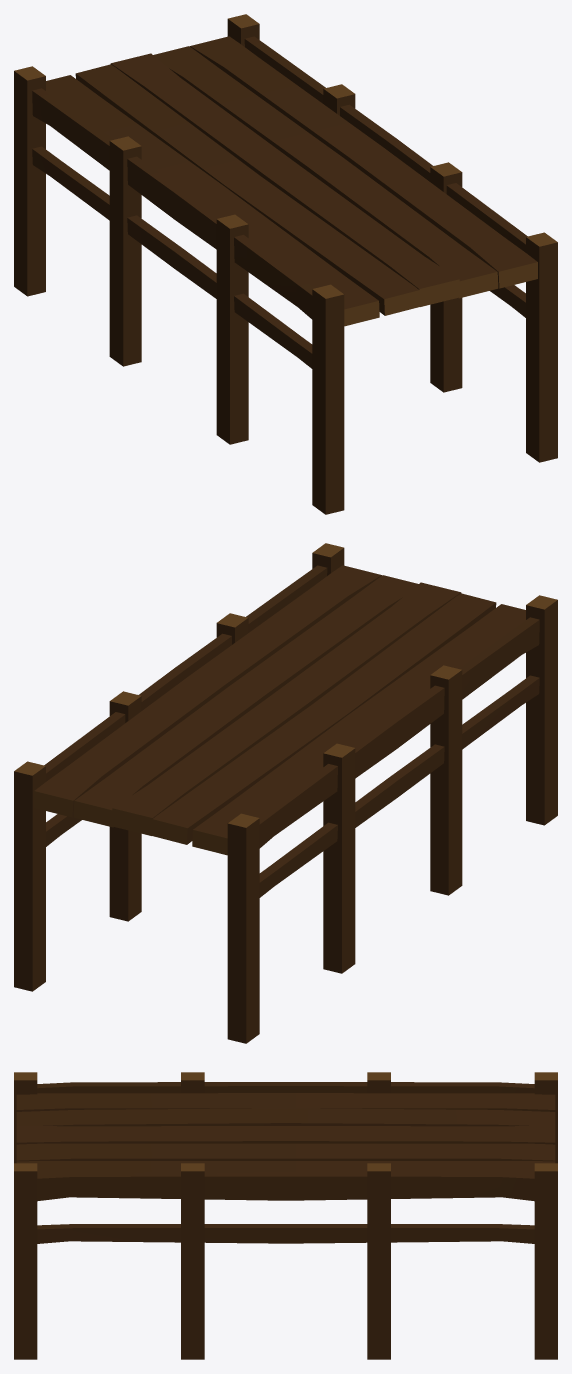
The model's file is Dock_FirstAge.obj.
3 renders of one model, top to bottom at view 1: azimuth 30°, elevation 25°; view 2: azimuth 150°, elevation 25°; view 3: azimuth 270°, elevation 25°, orthographic. The views are drawn at different scales.
Parts seen in each view (by area): view 1: Dock_FirstAge_Cube.112; view 2: Dock_FirstAge_Cube.112; view 3: Dock_FirstAge_Cube.112.
Boxes of the visible parts, <box> form: Dock_FirstAge_Cube.112: <box>14,14,557,514</box>; Dock_FirstAge_Cube.112: <box>14,543,557,1043</box>; Dock_FirstAge_Cube.112: <box>14,1072,557,1359</box>.
Bounding box in the file's own units: 0.5243 × 0.4658 × 1.22.
